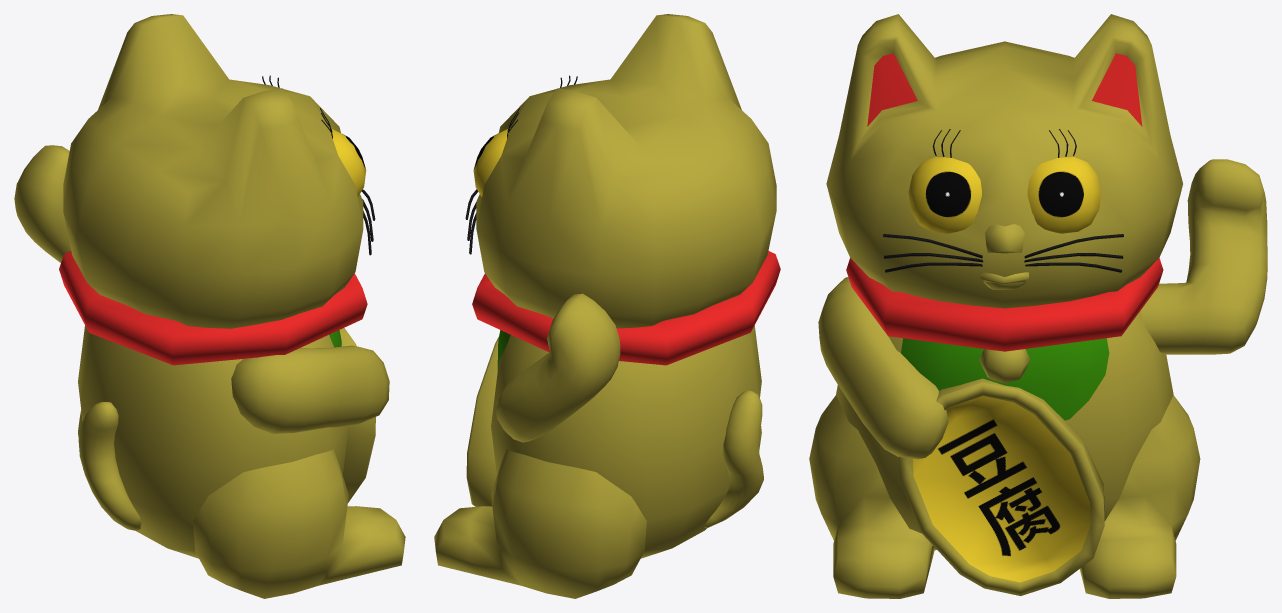
The model's file is Lucky_Cat.fbx.
The picture shows the model from 3 angles, left to right: view 1: azimuth 30°, elevation 25°; view 2: azimuth 150°, elevation 25°; view 3: azimuth 270°, elevation 25°; orthographic projection. The views are drawn at different scales.
Visible parts, largest first — view 1: Cube, Cube.001, Cube.002, Cube.004, Cube.006, Cube.005, Cube.013, Plane, Cube.010; view 2: Cube, Cube.001, Cube.002, Cube.005, Cube.004, Cube.013, Plane, Cube.010; view 3: Cube, Plane, Cube.002, Cube.005, Cube.004, Cube.001, Cube.006, Cube.010, Cube.014, Cube.011, Cube.007, Cube.008 (+1 smaller).
Boxes of the visible parts, <box> form: Cube: <box>63,14,363,328</box>; Cube.001: <box>78,325,348,558</box>; Cube.002: <box>78,410,405,598</box>; Cube.004: <box>59,251,367,365</box>; Cube.006: <box>231,345,389,433</box>; Cube.005: <box>14,145,71,262</box>; Cube.013: <box>78,402,141,530</box>; Plane: <box>339,328,375,503</box>; Cube.010: <box>329,128,366,196</box>; Cube: <box>476,14,776,328</box>; Cube.001: <box>491,325,761,558</box>; Cube.002: <box>434,426,761,598</box>; Cube.005: <box>495,293,620,442</box>; Cube.004: <box>472,251,780,365</box>; Cube.013: <box>704,390,763,527</box>; Plane: <box>466,337,498,506</box>; Cube.010: <box>473,128,510,196</box>; Cube: <box>826,14,1182,308</box>; Plane: <box>899,378,1104,595</box>; Cube.002: <box>809,395,1200,598</box>; Cube.005: <box>1140,159,1267,354</box>; Cube.004: <box>846,258,1163,351</box>; Cube.001: <box>836,311,1173,545</box>; Cube.006: <box>818,277,948,459</box>; Cube.010: <box>908,157,1100,233</box>; Cube.014: <box>901,338,1109,420</box>; Cube.011: <box>883,234,1123,272</box>; Cube.007: <box>979,349,1030,383</box>; Cube.008: <box>985,224,1024,253</box>.
Bounding box in the file's own units: 372 × 603 × 486.
